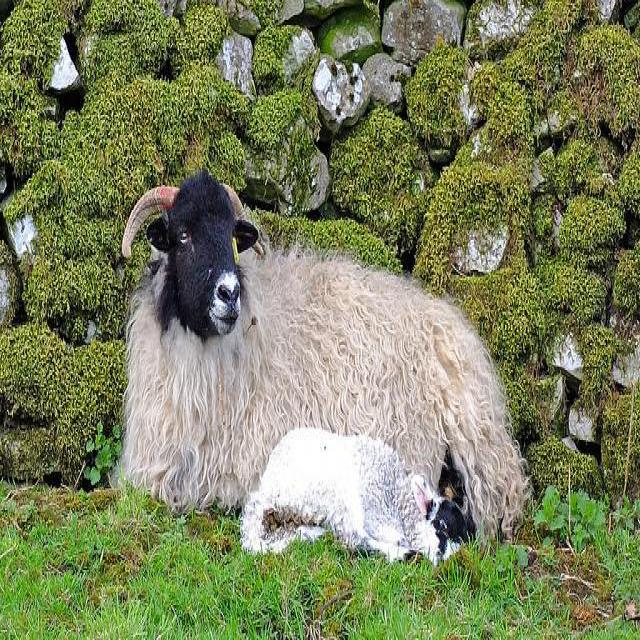Sheep: (116, 177, 536, 540), (240, 428, 477, 568)
